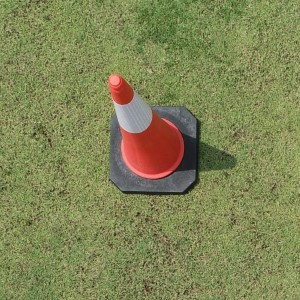traffic cone: (109, 74, 198, 194)
